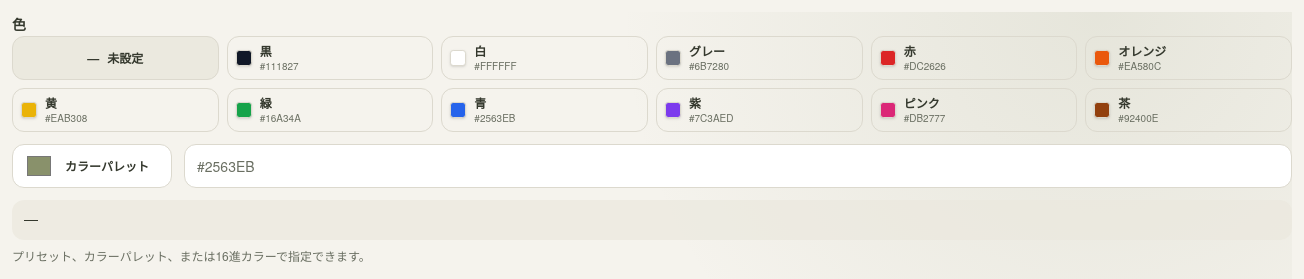
ItemColorField › selects named presets and submits the hexadecimal value
This screenshot has width=1304, height=279.
Click the button "青 #2563EB" at (545, 110), box [441, 88, 648, 132]
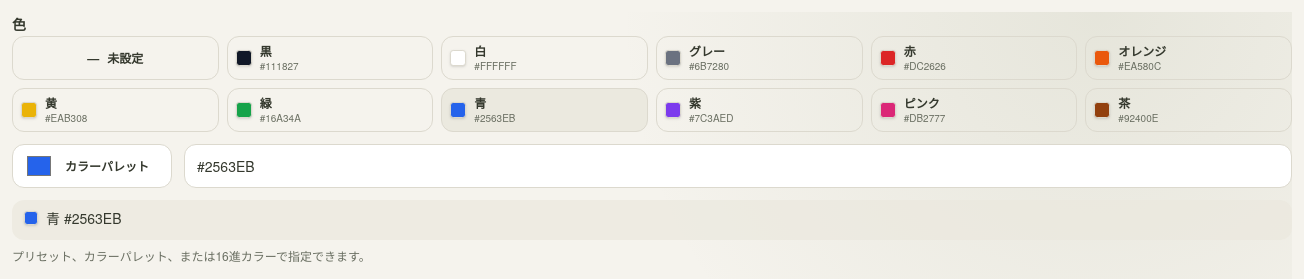
Check: the field named "16進カラー" holds "#2563EB", box [184, 144, 1292, 188]
Check: the text "青 #2563EB" is shown, box [46, 208, 122, 228]
